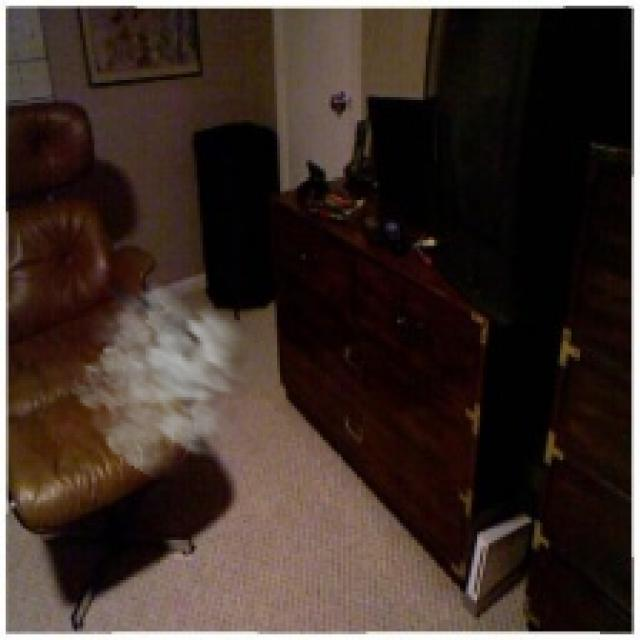Smoke: (68, 274, 274, 486)
